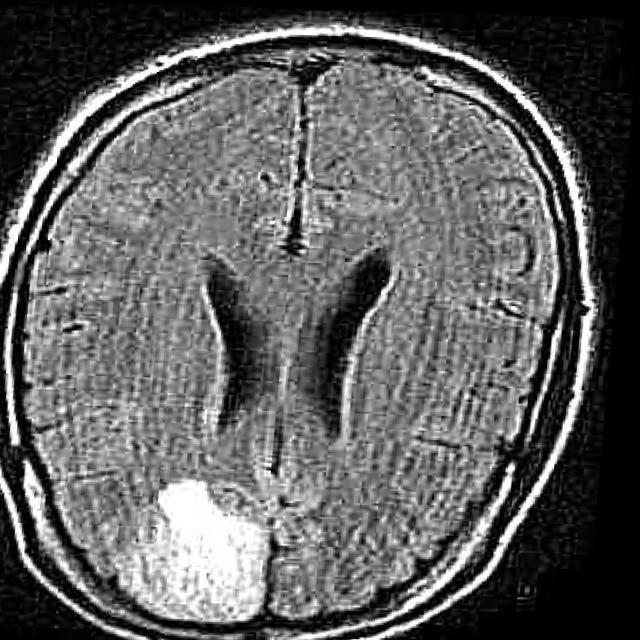Tumor: (129, 478, 271, 617)
